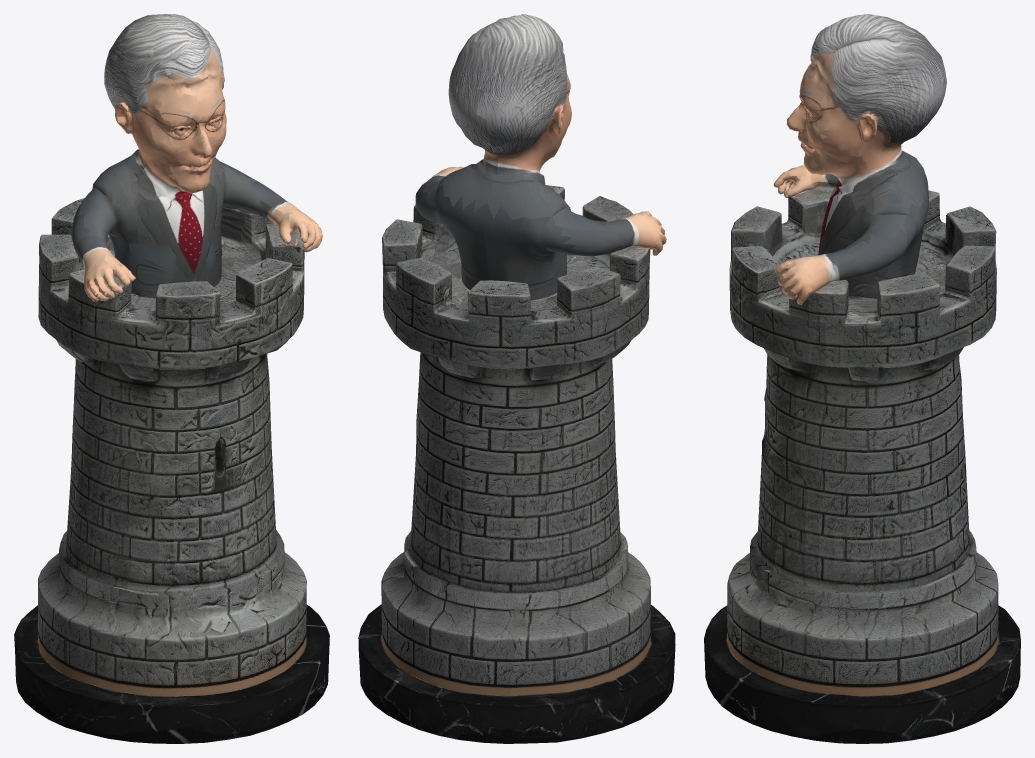
The model's file is right-rook.glb.
The picture shows the model from 3 angles, left to right: view 1: azimuth 30°, elevation 25°; view 2: azimuth 150°, elevation 25°; view 3: azimuth 270°, elevation 25°; orthographic projection.
Bounding box in the file's own units: 0.4404 × 1 × 0.4375.
Materials: 1 (1 with a texture image).
